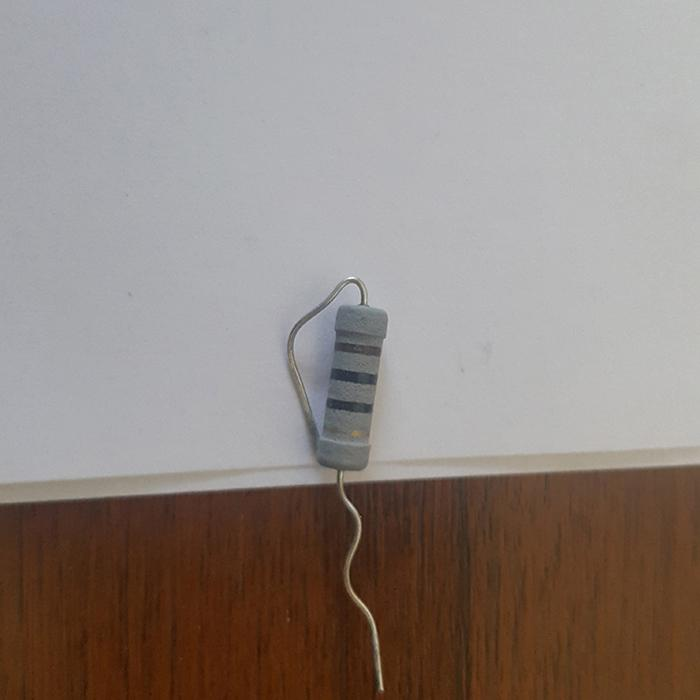resistor: (316, 303, 388, 478)
